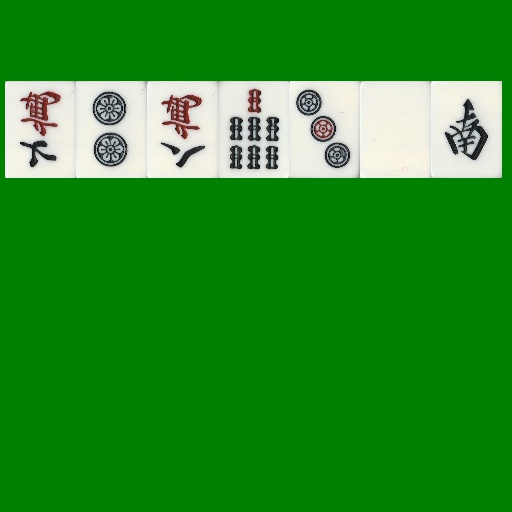2p: (76, 81, 147, 178)
3p: (289, 81, 360, 178)
7m: (5, 81, 76, 178)
7s: (218, 81, 289, 178)
8m: (147, 81, 218, 178)
south: (431, 81, 502, 178)
white: (360, 81, 431, 178)
